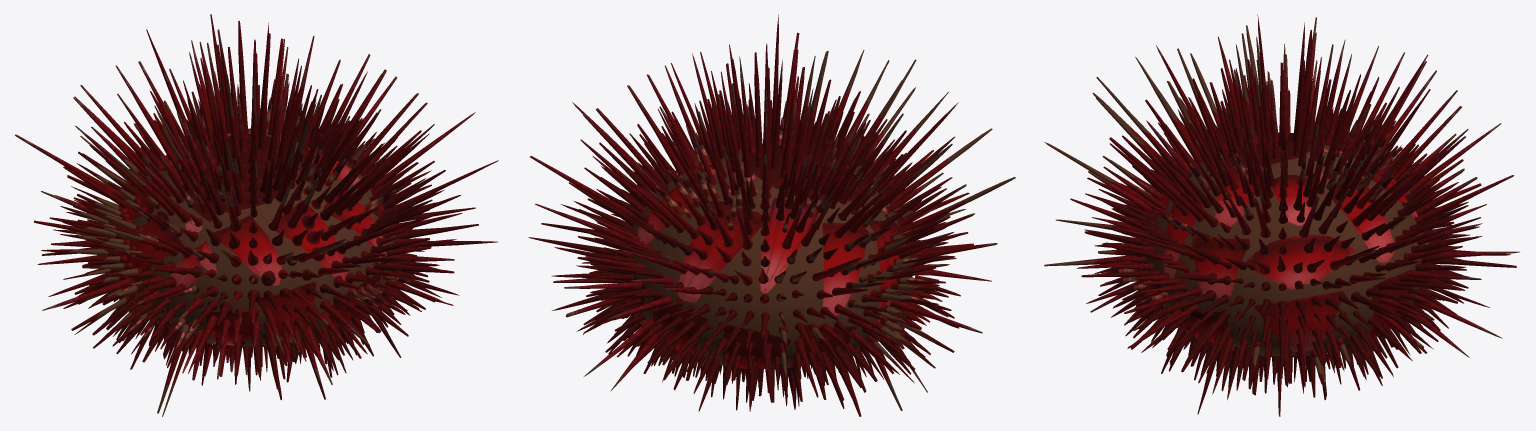
File: RedSeaUrchin.obj
The picture shows the model from 3 angles, left to right: view 1: azimuth 30°, elevation 25°; view 2: azimuth 150°, elevation 25°; view 3: azimuth 270°, elevation 25°; orthographic projection. The views are drawn at different scales.
Visible parts, largest first — view 1: node_id5_mesh_id6; view 2: node_id5_mesh_id6; view 3: node_id5_mesh_id6.
Part boxes in pixels (x1,y1,x2,y2): node_id5_mesh_id6: (15,14,498,416); node_id5_mesh_id6: (528,14,1015,416); node_id5_mesh_id6: (1044,14,1519,416).
Bounding box in the file's own units: 0.0735 × 0.0587 × 0.0687.
1 material, 1 textured.
